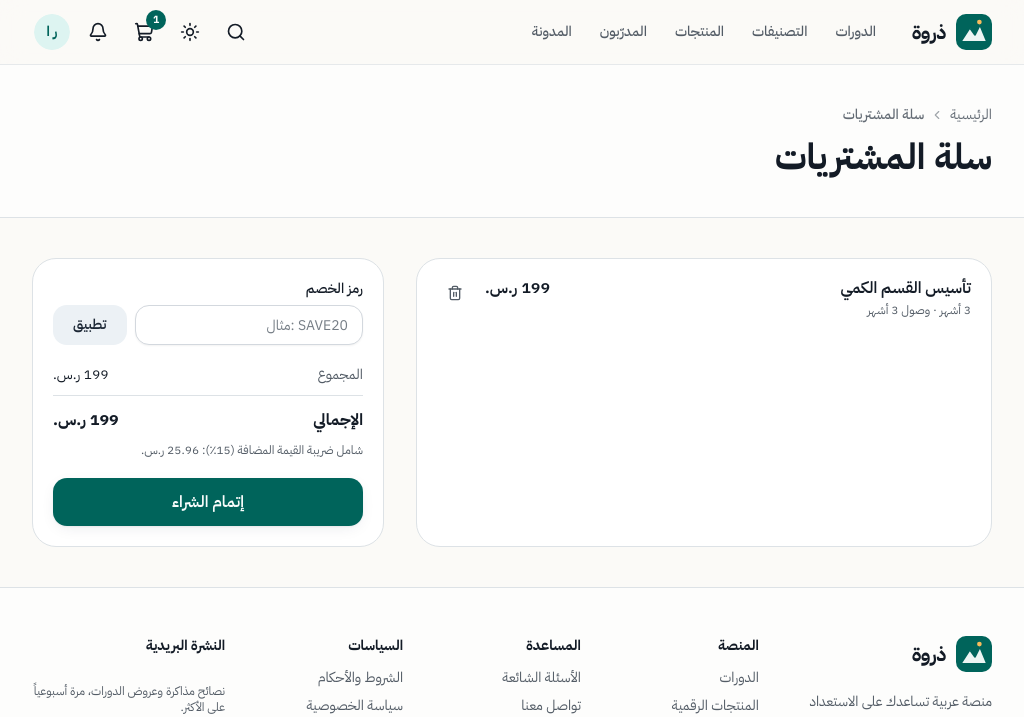
Test: cart › removes an item
Step 1. Click the button named "إزالة تأسيس القسم الكمي" → (455, 293), box [437,275,473,311]
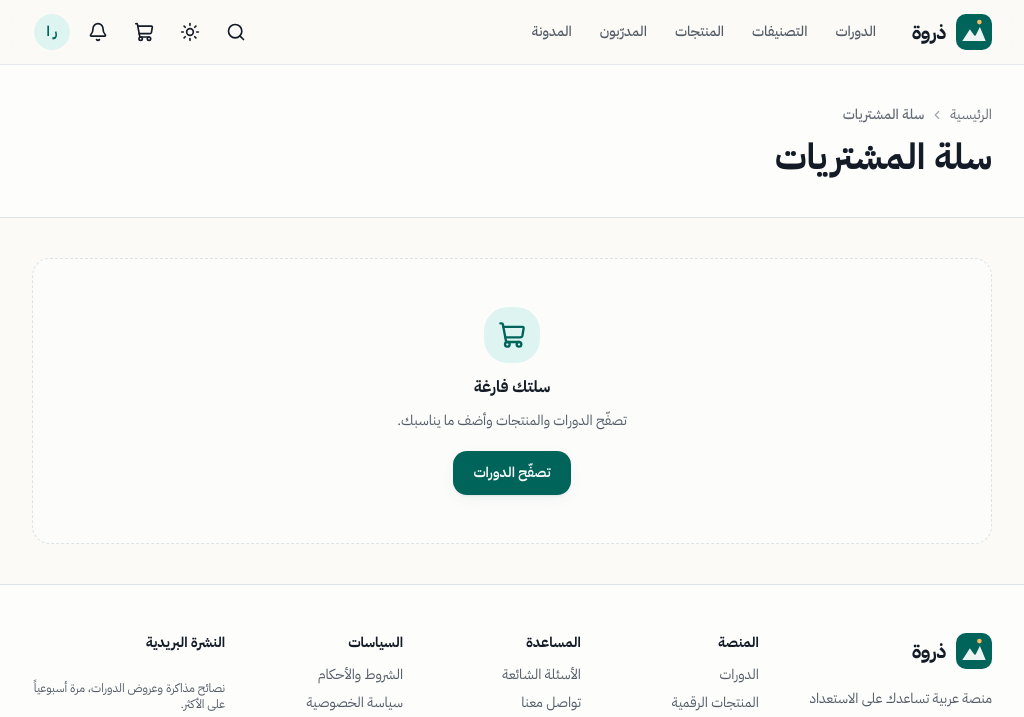
Expected: the heading "سلتك فارغة" is shown, [474,375,550,399]
